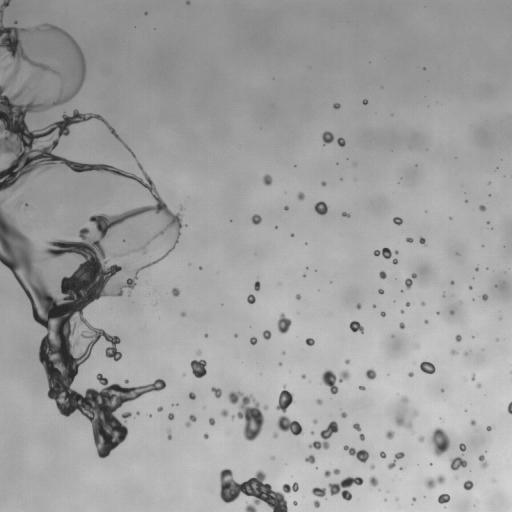droplet: (220, 390, 264, 441), (319, 368, 351, 394), (430, 427, 450, 456), (276, 312, 291, 334), (190, 359, 207, 378), (449, 454, 467, 470), (420, 360, 436, 374), (373, 247, 391, 259), (314, 200, 328, 215), (349, 320, 364, 334), (322, 131, 334, 146), (184, 414, 196, 427), (437, 493, 450, 504), (478, 454, 488, 468), (365, 368, 376, 380), (211, 386, 222, 398), (250, 214, 261, 225), (23, 113, 34, 124), (25, 170, 36, 181), (287, 196, 298, 207), (110, 205, 121, 216), (104, 206, 115, 217), (14, 220, 25, 231), (380, 258, 391, 269), (403, 288, 414, 299), (82, 304, 93, 315), (422, 306, 433, 317), (35, 325, 46, 336), (97, 338, 108, 349), (35, 363, 46, 374), (69, 380, 80, 391), (185, 400, 196, 411), (229, 402, 240, 413), (284, 407, 295, 418), (176, 411, 187, 422), (196, 415, 207, 426), (261, 418, 272, 429), (82, 420, 93, 431), (413, 423, 424, 434), (393, 425, 404, 436), (424, 441, 435, 452), (87, 443, 98, 454), (446, 446, 457, 457), (367, 452, 378, 463), (442, 467, 453, 478), (233, 472, 244, 483), (318, 477, 329, 488), (270, 481, 281, 492), (300, 483, 311, 494), (433, 483, 444, 494), (283, 491, 294, 502), (236, 492, 247, 503), (262, 174, 272, 186), (368, 475, 378, 487), (304, 454, 315, 464), (463, 480, 473, 491), (171, 287, 181, 297), (384, 429, 394, 439), (246, 293, 255, 304), (262, 329, 271, 340), (392, 216, 402, 225), (435, 503, 446, 511), (305, 337, 314, 346), (352, 422, 361, 431), (1, 187, 10, 196), (134, 199, 143, 208), (168, 204, 177, 213), (87, 221, 96, 230), (376, 278, 385, 287), (472, 288, 481, 297), (361, 301, 370, 310), (93, 320, 102, 329), (270, 326, 279, 335), (332, 367, 341, 376), (314, 373, 323, 382), (360, 376, 369, 385), (94, 382, 103, 391), (220, 391, 229, 400), (120, 402, 129, 411), (112, 409, 121, 418), (213, 413, 222, 422), (476, 421, 485, 430), (388, 422, 397, 431), (204, 424, 213, 433), (443, 427, 452, 436), (424, 429, 433, 438), (385, 453, 394, 462), (333, 474, 342, 483), (347, 483, 356, 492), (245, 494, 254, 503), (337, 137, 345, 147), (419, 236, 427, 246), (297, 191, 305, 200), (249, 336, 257, 345), (254, 280, 260, 291), (262, 505, 273, 511), (285, 505, 296, 511), (379, 270, 386, 279), (459, 443, 466, 452), (188, 392, 196, 399), (400, 396, 408, 403), (167, 412, 174, 420), (379, 451, 386, 459), (313, 500, 320, 508), (0, 127, 5, 138), (0, 160, 5, 171), (333, 102, 340, 109), (398, 322, 405, 329), (413, 342, 420, 349), (315, 398, 322, 405), (469, 419, 476, 426), (2, 6, 9, 13), (2, 20, 9, 27), (84, 64, 91, 71), (7, 65, 14, 72), (84, 71, 91, 78), (78, 107, 85, 114), (66, 110, 73, 117), (330, 139, 337, 146), (65, 167, 72, 174), (29, 169, 36, 176), (88, 169, 95, 176), (109, 172, 116, 179), (270, 175, 277, 182), (256, 176, 263, 183), (161, 196, 168, 203), (92, 209, 99, 216), (74, 235, 81, 242), (412, 235, 419, 242), (122, 286, 129, 293), (252, 290, 259, 297), (375, 305, 382, 312), (441, 309, 448, 316), (398, 315, 405, 322), (287, 324, 294, 331), (107, 329, 114, 336), (256, 334, 263, 341), (34, 339, 41, 346), (452, 340, 459, 347), (115, 343, 122, 350), (33, 345, 40, 352), (32, 352, 39, 359), (277, 354, 284, 361), (341, 363, 348, 370), (185, 366, 192, 373), (373, 366, 380, 373), (318, 367, 325, 374), (118, 380, 125, 387), (231, 385, 238, 392), (48, 398, 55, 405), (286, 404, 293, 411), (169, 406, 176, 413), (52, 407, 59, 414), (150, 407, 157, 414), (161, 409, 168, 416), (260, 409, 267, 416), (276, 409, 283, 416), (239, 417, 246, 424), (411, 417, 418, 424), (321, 422, 328, 429), (440, 424, 447, 431), (276, 428, 283, 435), (284, 429, 291, 436), (379, 430, 386, 437), (87, 433, 94, 440), (124, 433, 131, 440), (255, 433, 262, 440), (411, 434, 418, 441), (117, 441, 124, 448), (309, 447, 316, 454), (109, 448, 116, 455), (454, 449, 461, 456), (395, 458, 402, 465), (260, 466, 267, 473), (369, 469, 376, 476), (248, 471, 255, 478), (430, 472, 437, 479), (375, 474, 382, 481), (362, 477, 369, 484), (214, 485, 221, 492), (335, 491, 342, 498), (316, 495, 323, 502), (216, 497, 223, 504), (285, 501, 292, 508), (478, 205, 486, 211), (405, 236, 413, 242), (482, 293, 488, 301), (455, 334, 461, 342), (450, 349, 458, 355), (209, 417, 215, 425), (358, 433, 364, 441), (341, 212, 350, 217), (391, 258, 398, 264), (377, 288, 384, 294), (355, 302, 361, 309), (340, 412, 347, 418), (486, 425, 493, 431), (203, 432, 209, 439), (418, 435, 424, 442), (179, 204, 185, 210), (295, 294, 301, 300), (180, 311, 186, 317), (344, 358, 350, 364), (262, 404, 268, 410), (369, 463, 375, 469), (196, 349, 201, 356), (358, 385, 365, 390), (273, 431, 278, 438), (471, 373, 475, 381), (362, 99, 367, 105), (380, 311, 385, 317), (476, 382, 481, 388), (157, 406, 163, 411), (413, 410, 418, 416), (239, 507, 246, 511), (313, 507, 320, 511), (321, 181, 326, 186), (284, 205, 289, 210), (405, 301, 410, 306), (420, 301, 425, 306), (408, 372, 413, 377), (301, 374, 306, 379), (312, 419, 317, 424), (270, 455, 275, 460), (292, 500, 297, 505), (40, 18, 45, 23), (50, 20, 55, 25), (14, 23, 19, 28), (57, 23, 62, 28), (69, 31, 74, 36), (73, 36, 78, 41), (76, 40, 81, 45), (80, 47, 85, 52), (83, 54, 88, 59), (82, 80, 87, 85), (79, 86, 84, 91), (332, 98, 337, 103), (333, 108, 338, 113), (94, 109, 99, 114), (97, 110, 102, 115), (101, 113, 106, 118), (58, 116, 63, 121), (111, 123, 116, 128), (114, 128, 119, 133), (332, 137, 337, 142), (123, 138, 128, 143), (318, 138, 323, 143), (325, 142, 330, 147), (142, 165, 147, 170), (72, 170, 77, 175), (81, 170, 86, 175), (119, 175, 124, 180), (149, 175, 154, 180), (129, 178, 134, 183), (264, 184, 269, 189), (293, 190, 298, 195), (302, 190, 307, 195), (292, 194, 297, 199), (318, 196, 323, 201), (313, 198, 318, 203), (298, 199, 303, 204), (480, 200, 485, 205), (285, 201, 290, 206), (325, 201, 330, 206), (474, 203, 479, 208), (326, 207, 331, 212), (477, 209, 482, 214), (256, 210, 261, 215), (312, 210, 317, 215), (247, 213, 252, 218), (317, 213, 322, 218), (388, 215, 393, 220), (247, 218, 252, 223), (180, 219, 185, 224), (254, 223, 259, 228), (78, 224, 83, 229), (179, 227, 184, 232), (407, 232, 412, 237), (385, 243, 390, 248), (389, 247, 394, 252), (378, 253, 383, 258), (390, 253, 395, 258), (387, 257, 392, 262), (304, 269, 309, 274), (384, 269, 389, 274), (374, 272, 379, 277), (378, 277, 383, 282), (12, 278, 17, 283), (15, 282, 20, 287), (249, 282, 254, 287), (259, 282, 264, 287), (410, 283, 415, 288), (401, 284, 406, 289), (176, 285, 181, 290), (167, 286, 172, 291), (483, 289, 488, 294), (20, 290, 25, 295), (167, 291, 172, 296), (178, 291, 183, 296), (22, 293, 27, 298), (290, 293, 295, 298), (98, 295, 103, 300), (174, 295, 179, 300), (486, 296, 491, 301), (242, 297, 247, 302), (254, 297, 259, 302), (25, 298, 30, 303), (351, 302, 356, 307), (360, 303, 365, 308), (402, 305, 407, 310), (178, 307, 183, 312), (27, 308, 32, 313), (185, 311, 190, 316), (28, 312, 33, 317), (284, 313, 289, 318), (447, 313, 452, 318), (275, 314, 280, 319), (180, 316, 185, 321), (350, 316, 355, 321), (86, 318, 91, 323), (345, 320, 350, 325), (359, 321, 364, 326), (403, 321, 408, 326), (260, 326, 265, 331), (347, 328, 352, 333), (355, 329, 360, 334), (117, 333, 122, 338), (305, 333, 310, 338), (99, 335, 104, 340), (450, 335, 455, 340), (460, 336, 465, 341), (106, 341, 111, 346), (254, 342, 259, 347), (302, 342, 307, 347), (446, 346, 451, 351), (458, 350, 463, 355), (453, 353, 458, 358), (343, 354, 348, 359), (195, 356, 200, 361), (425, 357, 430, 362), (415, 362, 420, 367), (203, 364, 208, 369), (366, 364, 371, 369), (77, 365, 82, 370), (406, 367, 411, 372), (361, 369, 366, 374), (421, 371, 426, 376), (424, 372, 429, 377), (190, 373, 195, 378), (73, 374, 78, 379), (154, 374, 159, 379), (201, 374, 206, 379), (305, 374, 310, 379), (466, 374, 471, 379), (194, 376, 199, 381), (474, 376, 479, 381), (149, 378, 154, 383), (163, 378, 168, 383), (301, 378, 306, 383), (333, 380, 338, 385), (106, 381, 111, 386), (213, 383, 218, 388), (325, 384, 330, 389), (44, 386, 49, 391), (278, 386, 283, 391), (285, 386, 290, 391), (475, 387, 480, 392), (159, 388, 164, 393), (151, 389, 156, 394), (192, 389, 197, 394), (209, 390, 214, 395), (80, 391, 85, 396), (243, 391, 248, 396), (138, 394, 143, 399), (291, 395, 296, 400), (186, 397, 191, 402), (321, 399, 326, 404), (273, 400, 278, 405), (311, 400, 316, 405), (155, 402, 160, 407), (314, 403, 319, 408), (503, 403, 508, 408), (258, 406, 263, 411), (74, 408, 79, 413), (345, 410, 350, 415), (130, 411, 135, 416), (193, 412, 198, 417), (59, 413, 64, 418), (314, 414, 319, 419), (225, 415, 230, 420), (233, 415, 238, 420), (184, 416, 189, 421), (288, 416, 293, 421), (473, 416, 478, 421), (403, 417, 408, 422), (465, 418, 470, 423), (204, 419, 209, 424), (190, 420, 195, 425), (298, 420, 303, 425), (474, 422, 479, 427), (336, 423, 341, 428), (181, 424, 186, 429), (411, 424, 416, 429), (469, 425, 474, 430), (184, 426, 189, 431), (355, 430, 360, 435), (170, 431, 175, 436), (207, 431, 212, 436), (331, 431, 336, 436), (414, 432, 419, 437), (162, 433, 167, 438), (290, 433, 295, 438), (296, 433, 301, 438), (363, 433, 368, 438), (392, 433, 397, 438), (199, 435, 204, 440), (318, 437, 323, 442), (325, 437, 330, 442), (384, 437, 389, 442), (308, 438, 313, 443), (417, 441, 422, 446), (347, 443, 352, 448), (319, 446, 324, 451), (354, 446, 359, 451), (397, 447, 402, 452), (304, 452, 309, 457), (351, 454, 356, 459), (483, 454, 488, 459), (104, 455, 109, 460), (460, 455, 465, 460), (473, 455, 478, 460), (365, 458, 370, 463), (355, 459, 360, 464), (475, 459, 480, 464), (446, 460, 451, 465), (305, 461, 310, 466), (312, 461, 317, 466), (465, 463, 470, 468), (223, 464, 228, 469), (335, 464, 340, 469), (392, 465, 397, 470), (458, 465, 463, 470), (485, 465, 490, 470), (328, 467, 333, 472), (447, 467, 452, 472), (452, 469, 457, 474), (319, 470, 324, 475), (329, 471, 334, 476), (350, 473, 355, 478), (463, 476, 468, 481), (287, 481, 292, 486), (297, 482, 302, 487), (458, 482, 463, 487), (317, 483, 322, 488), (372, 485, 377, 490), (469, 487, 474, 492), (325, 488, 330, 493), (462, 488, 467, 493), (383, 492, 388, 497), (314, 495, 319, 500), (350, 495, 355, 500), (433, 495, 438, 500), (341, 498, 346, 503), (442, 501, 447, 506), (309, 502, 314, 507), (398, 466, 404, 470), (0, 79, 3, 86), (0, 261, 3, 268), (185, 0, 190, 4), (198, 265, 202, 270), (468, 285, 473, 289), (449, 310, 454, 314), (424, 319, 428, 324), (204, 333, 209, 337), (234, 333, 238, 338), (390, 334, 395, 338), (463, 351, 468, 355), (124, 379, 129, 383), (310, 430, 314, 435), (290, 233, 294, 237), (394, 250, 398, 254), (188, 262, 192, 266), (450, 280, 454, 284), (400, 309, 404, 313), (281, 350, 285, 354), (278, 362, 282, 366), (182, 372, 186, 376), (440, 388, 444, 392), (395, 497, 399, 501), (412, 497, 416, 501), (475, 266, 478, 271), (491, 479, 496, 482), (144, 11, 147, 15), (13, 20, 17, 23), (422, 67, 426, 70), (487, 181, 491, 184), (464, 199, 468, 202), (449, 216, 452, 220), (302, 274, 306, 277), (372, 304, 375, 308), (436, 311, 439, 315), (471, 335, 475, 338), (136, 411, 139, 415), (429, 462, 433, 465), (454, 476, 458, 479), (181, 0, 186, 2), (424, 210, 427, 213), (229, 219, 232, 222), (486, 221, 489, 224), (274, 225, 277, 228), (481, 244, 484, 247), (305, 266, 308, 269), (494, 284, 497, 287), (400, 289, 403, 292), (498, 317, 501, 320), (496, 338, 499, 341), (308, 380, 311, 383), (202, 406, 205, 409), (464, 409, 467, 412), (148, 414, 151, 417), (384, 498, 387, 501), (0, 0, 3, 3), (8, 1, 11, 4), (184, 3, 187, 6), (143, 8, 146, 11), (141, 13, 144, 16), (146, 13, 149, 16), (424, 64, 427, 67), (421, 69, 424, 72), (337, 100, 340, 103), (359, 101, 362, 104), (365, 103, 368, 106), (118, 134, 121, 137), (344, 141, 347, 144), (127, 144, 130, 147), (131, 148, 134, 151), (133, 151, 136, 154), (345, 159, 348, 162), (139, 161, 142, 164), (292, 161, 295, 164), (332, 161, 335, 164), (338, 161, 341, 164), (296, 164, 299, 167), (335, 164, 338, 167), (292, 166, 295, 169), (492, 166, 495, 169), (495, 168, 498, 171), (338, 174, 341, 177), (322, 178, 325, 181), (318, 182, 321, 185), (325, 183, 328, 186), (321, 185, 324, 188), (487, 190, 490, 193), (490, 194, 493, 197), (486, 195, 489, 198), (464, 196, 467, 199), (26, 200, 29, 203), (21, 202, 24, 205), (464, 202, 467, 205), (182, 204, 185, 207), (281, 204, 284, 207), (283, 209, 286, 212), (179, 210, 182, 213), (345, 210, 348, 213), (338, 212, 341, 215), (449, 213, 452, 216), (259, 214, 262, 217), (393, 214, 396, 217), (397, 214, 400, 217), (349, 215, 352, 218), (228, 216, 231, 219), (445, 216, 448, 219), (226, 219, 229, 222), (229, 221, 232, 224), (272, 223, 275, 226), (393, 223, 396, 226), (399, 223, 402, 226), (487, 223, 490, 226), (277, 225, 280, 228), (273, 228, 276, 231), (490, 229, 493, 232), (290, 230, 293, 233), (287, 233, 290, 236), (293, 233, 296, 236), (422, 235, 425, 238), (290, 236, 293, 239), (177, 237, 180, 240), (306, 240, 309, 243), (424, 240, 427, 243), (406, 241, 409, 244), (481, 241, 484, 244), (175, 242, 178, 245), (301, 242, 304, 245), (481, 246, 484, 249), (397, 249, 400, 252), (168, 251, 171, 254), (374, 255, 377, 258), (163, 256, 166, 259), (157, 260, 160, 263), (397, 260, 400, 263), (154, 262, 157, 265), (304, 263, 307, 266), (393, 263, 396, 266), (473, 264, 476, 267), (483, 264, 486, 267), (201, 265, 204, 268), (302, 266, 305, 269), (308, 266, 311, 269), (143, 267, 146, 270), (196, 268, 199, 271), (316, 268, 319, 271), (477, 268, 480, 271), (472, 269, 475, 272), (484, 269, 487, 272), (314, 271, 317, 274), (415, 271, 418, 274), (136, 273, 139, 276), (301, 276, 304, 279), (329, 277, 332, 280), (410, 277, 413, 280), (447, 280, 450, 283), (453, 280, 456, 283), (450, 284, 453, 287), (471, 284, 474, 287), (133, 285, 136, 288), (465, 285, 468, 288), (376, 286, 379, 289), (380, 286, 383, 289), (494, 287, 497, 290), (397, 288, 400, 291), (467, 288, 470, 291), (383, 289, 386, 292), (295, 291, 298, 294), (398, 291, 401, 294), (439, 292, 442, 295), (444, 292, 447, 295), (245, 293, 248, 296), (299, 293, 302, 296), (380, 293, 383, 296), (116, 295, 119, 298), (479, 295, 482, 298), (440, 296, 443, 299), (299, 297, 302, 300), (294, 298, 297, 301), (423, 299, 426, 302), (469, 299, 472, 302), (152, 300, 155, 303), (403, 300, 406, 303), (245, 301, 248, 304), (251, 302, 254, 305), (409, 302, 412, 305), (375, 303, 378, 306), (369, 304, 372, 307), (423, 304, 426, 307), (354, 307, 357, 310), (448, 307, 451, 310), (451, 307, 454, 310), (358, 308, 361, 311), (380, 308, 383, 311), (435, 308, 438, 311), (384, 310, 387, 313), (397, 310, 400, 313), (446, 310, 449, 313), (377, 311, 380, 314), (439, 311, 442, 314), (402, 312, 405, 315), (433, 312, 436, 315), (384, 314, 387, 317), (379, 315, 382, 318), (424, 316, 427, 319), (355, 318, 358, 321), (421, 319, 424, 322), (427, 321, 430, 324), (422, 322, 425, 325), (396, 324, 399, 327), (266, 327, 269, 330), (362, 328, 365, 331), (236, 331, 239, 334), (207, 332, 210, 335), (231, 332, 234, 335), (472, 332, 475, 335), (201, 334, 204, 337), (249, 334, 252, 337), (206, 335, 209, 338), (231, 335, 234, 338), (468, 335, 471, 338), (474, 335, 477, 338), (235, 336, 238, 339), (312, 337, 315, 340), (248, 342, 251, 345), (313, 342, 316, 345), (465, 348, 468, 351), (90, 350, 93, 353), (102, 351, 105, 354), (467, 351, 470, 354), (284, 352, 287, 355), (89, 353, 92, 356), (85, 358, 88, 361), (118, 358, 121, 361), (204, 358, 207, 361), (280, 359, 283, 362), (275, 360, 278, 363), (349, 360, 352, 363), (431, 361, 434, 364), (433, 364, 436, 367), (278, 365, 281, 368), (98, 370, 101, 373), (300, 371, 303, 374), (298, 375, 301, 378), (406, 375, 409, 378), (411, 375, 414, 378), (359, 382, 362, 385), (480, 383, 483, 386), (355, 385, 358, 388), (208, 387, 211, 390), (443, 387, 446, 390), (359, 389, 362, 392), (437, 389, 440, 392), (331, 393, 334, 396), (186, 395, 189, 398), (194, 396, 197, 399), (173, 401, 176, 404), (173, 404, 176, 407), (461, 407, 464, 410), (138, 409, 141, 412), (340, 409, 343, 412), (464, 411, 467, 414), (146, 412, 149, 415), (135, 414, 138, 417), (151, 414, 154, 417), (145, 415, 148, 418), (173, 415, 176, 418), (166, 418, 169, 421), (171, 418, 174, 421), (195, 418, 198, 421), (352, 420, 355, 423), (213, 422, 216, 425), (487, 422, 490, 425), (358, 424, 361, 427), (490, 424, 493, 427), (484, 429, 487, 432), (359, 430, 362, 433), (487, 430, 490, 433), (206, 437, 209, 440), (168, 439, 171, 442), (464, 442, 467, 445), (340, 446, 343, 449), (379, 448, 382, 451), (462, 450, 465, 453), (478, 452, 481, 455), (378, 456, 381, 459), (428, 459, 431, 462), (427, 464, 430, 467), (399, 469, 402, 472), (471, 480, 474, 483), (296, 489, 299, 492), (447, 492, 450, 495), (413, 494, 416, 497), (449, 495, 452, 498), (380, 497, 383, 500), (386, 497, 389, 500), (415, 497, 418, 500), (409, 499, 412, 502), (296, 500, 299, 503), (509, 370, 511, 374), (380, 86, 383, 88), (294, 164, 296, 167), (414, 164, 417, 166), (496, 166, 498, 169), (339, 178, 342, 180), (488, 194, 491, 196), (305, 242, 307, 245), (485, 267, 488, 269), (314, 269, 317, 271), (329, 281, 332, 283), (472, 298, 474, 301), (339, 408, 342, 410), (315, 466, 317, 469), (378, 488, 380, 491), (423, 496, 426, 498), (391, 113, 393, 115), (336, 162, 338, 164), (491, 227, 493, 229), (472, 277, 474, 279), (393, 300, 395, 302), (221, 304, 223, 306), (387, 373, 389, 375), (411, 503, 413, 505), (473, 504, 475, 506), (444, 506, 446, 508), (188, 0, 191, 1), (249, 326, 251, 327), (485, 450, 486, 452)
ligament: (275, 384, 303, 435), (311, 476, 363, 501), (308, 420, 338, 449), (343, 445, 369, 463), (394, 415, 415, 434), (424, 473, 445, 489), (387, 452, 404, 469), (404, 272, 417, 289), (324, 468, 340, 477), (167, 428, 172, 440), (507, 401, 511, 414), (24, 202, 28, 210), (439, 417, 444, 422), (171, 403, 178, 406), (442, 291, 445, 297), (456, 252, 460, 255)
